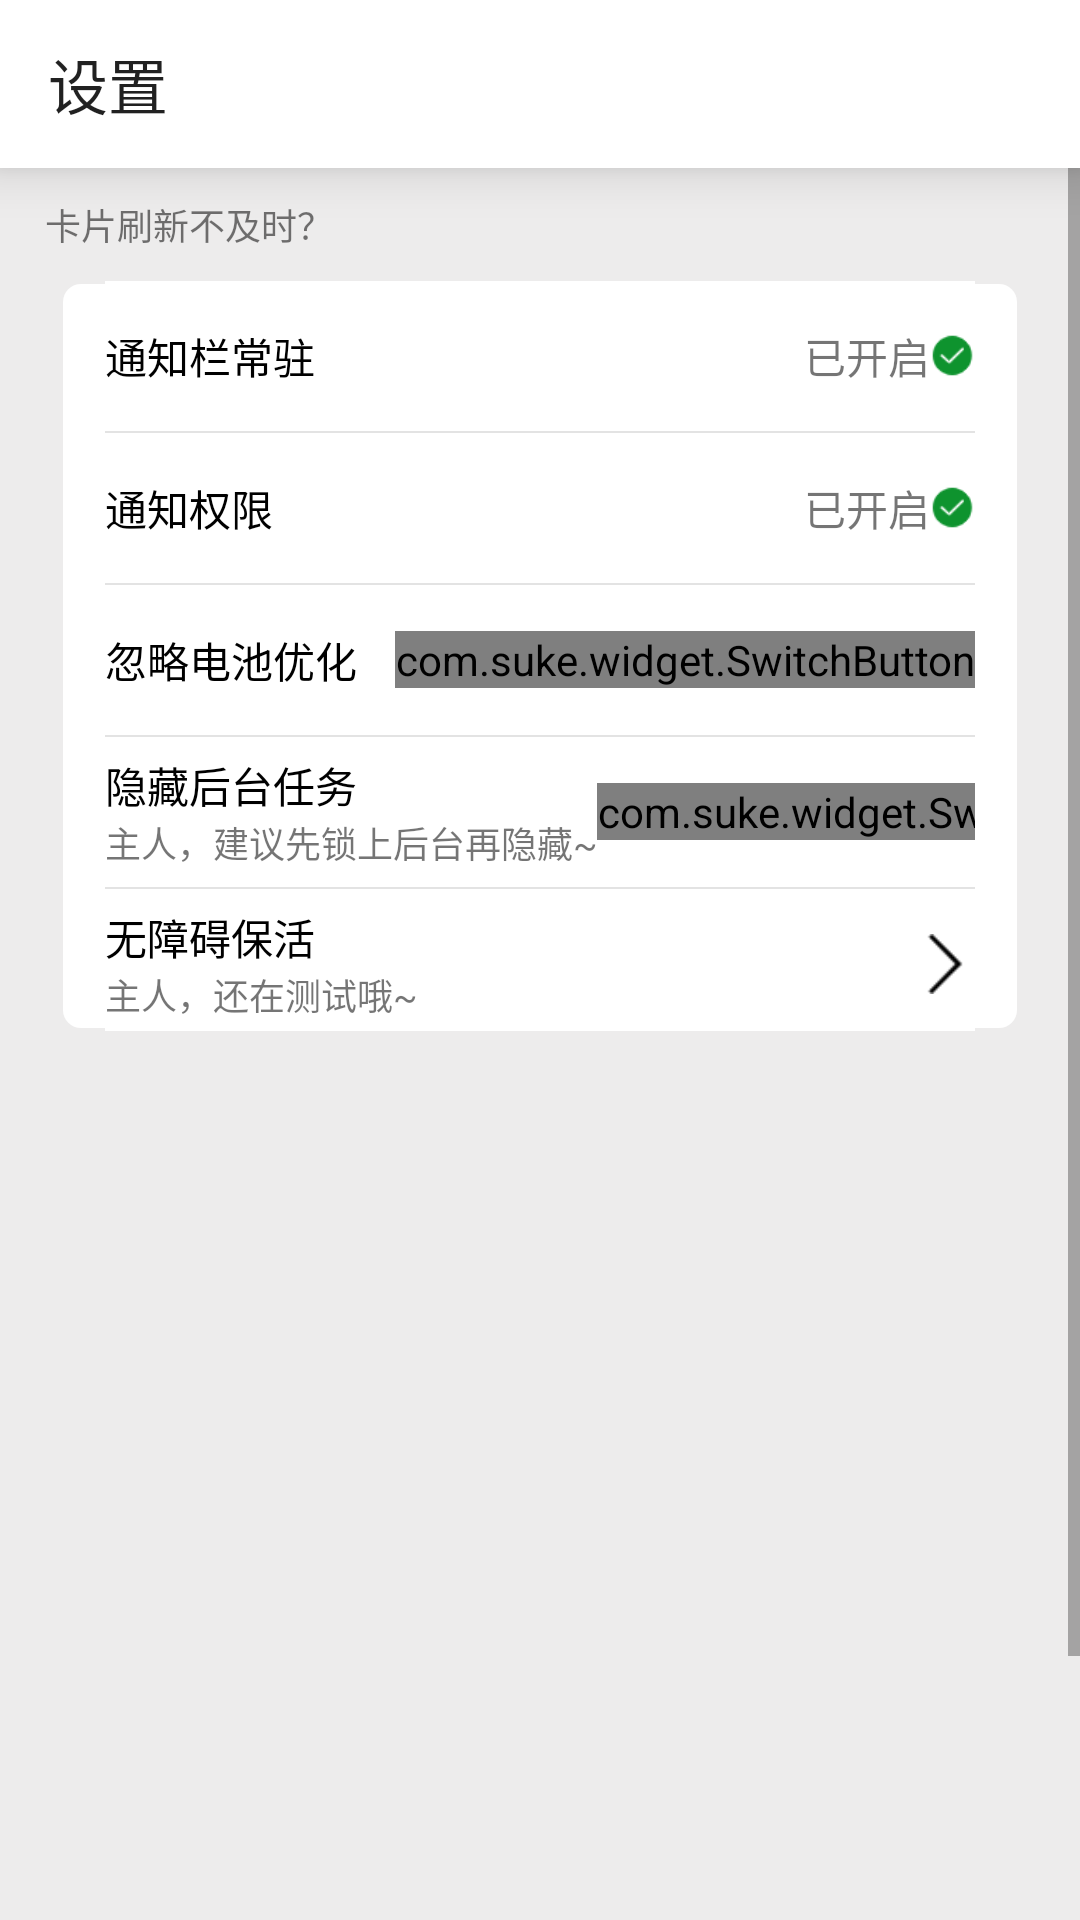

Named icons in this screenshot (1080*1920) and their bounding boxes, (x1, y1, x2, y2):
truegreen: (932, 335, 973, 376), (932, 487, 973, 528)
